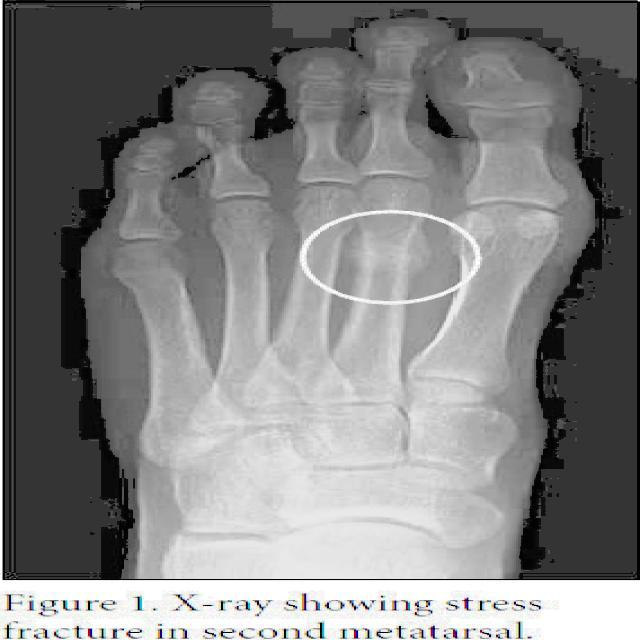HairLine Fracture: (351, 228, 429, 277)
